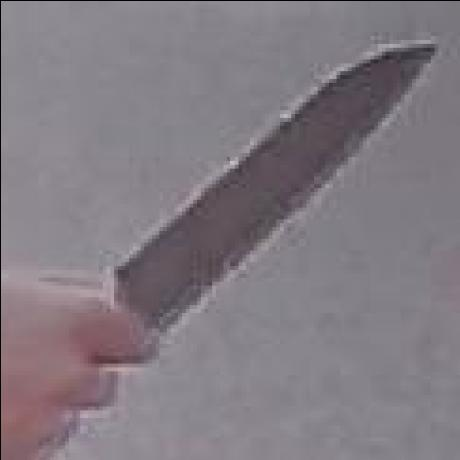1: (0, 265, 155, 460)
weapon: (92, 36, 439, 336)
